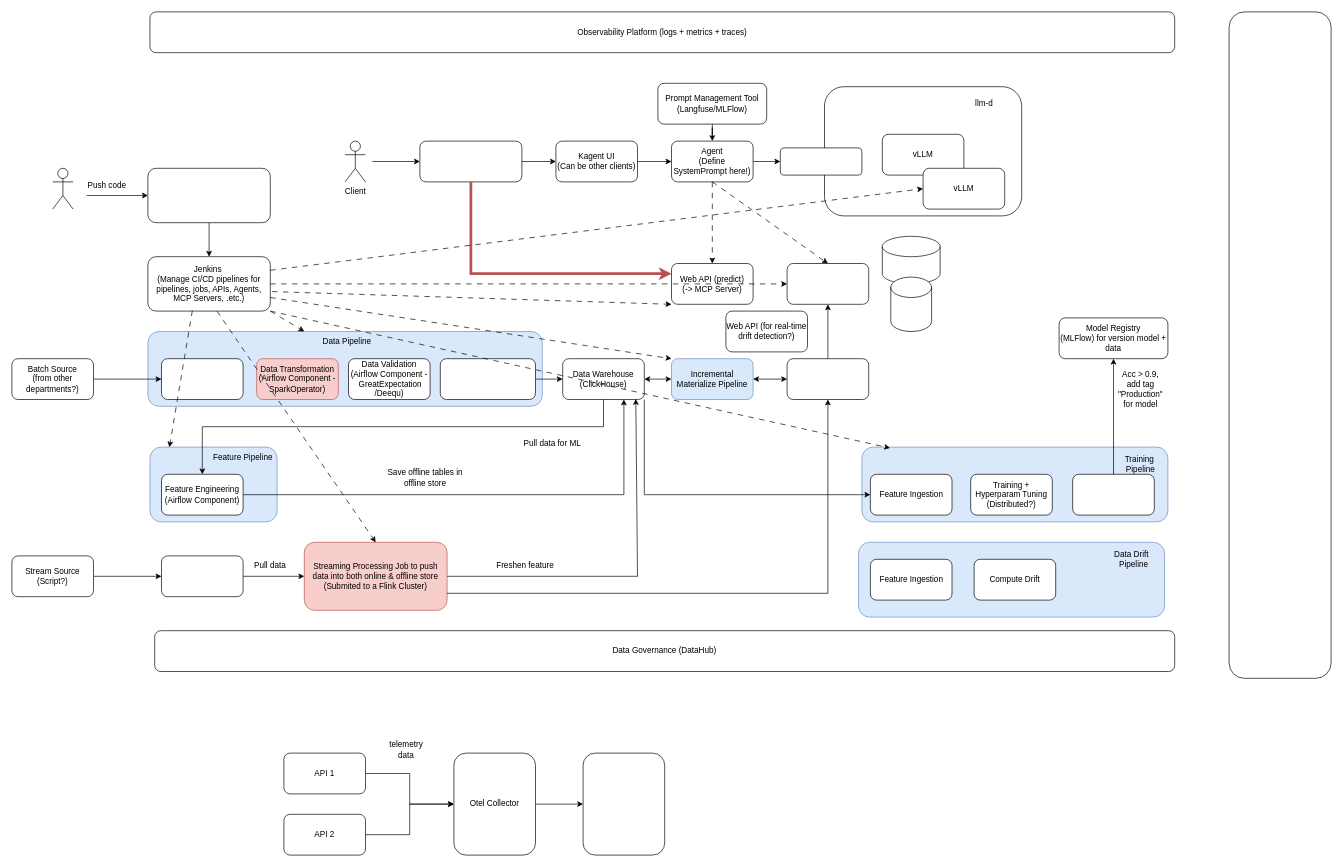
Image size: 1343x867. Some labels were removed from this diagram. Each missing label, with the centre of its shape:
AgentGateway (policy applied here!): the point at 821,161
Backend + Metrics: Prom+Graf + Logs: Elastic+Kibana + Traces: Jaeger: the point at 623,803
Cache: the point at 911,304
Data Ingestion (Fivetran/Airflow Component): the point at 202,379
Data Load ( Airflow Component - Script/ SparkOperator): the point at 488,379
Database: the point at 911,260
Dev: the point at 62,188
GitHub (code versioning): the point at 208,195
Kafka: the point at 202,576
Model Evaluation: the point at 1113,494
NGINX Gateway/ Istio Ingress Gateway: the point at 470,161
Online Store for ML (Redis): the point at 827,379
Security: the point at 1279,344
Web API (pull features - Feast) (-> MCP Server): the point at 827,283
